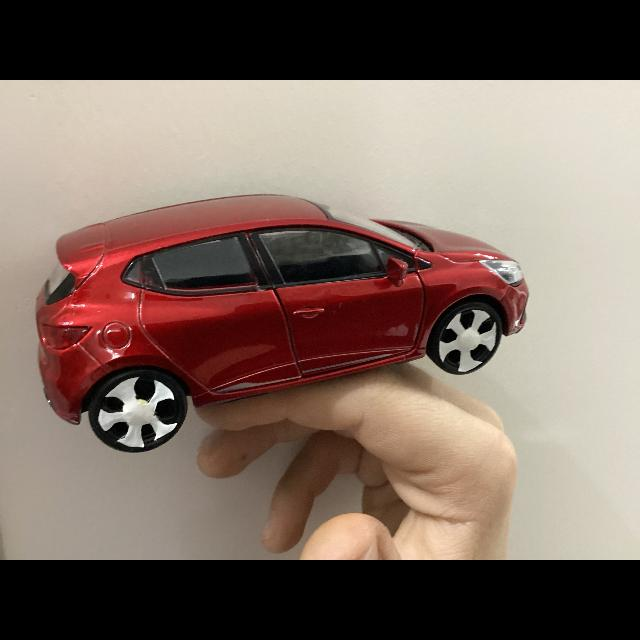Yanlis_Jant: (98, 376, 180, 449), (439, 308, 497, 374)
